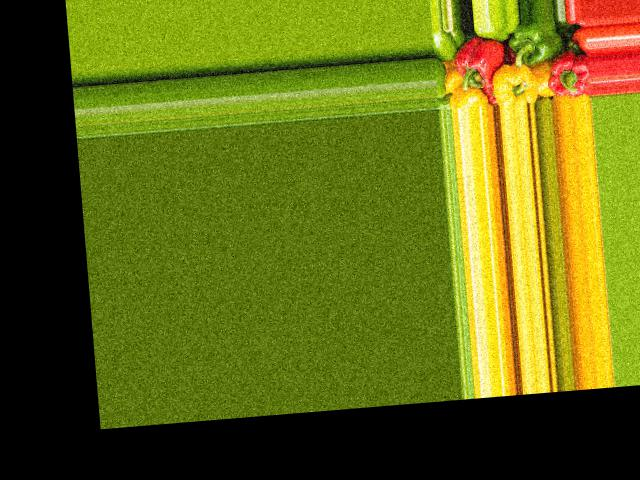bell_pepper: (540, 49, 590, 100)
